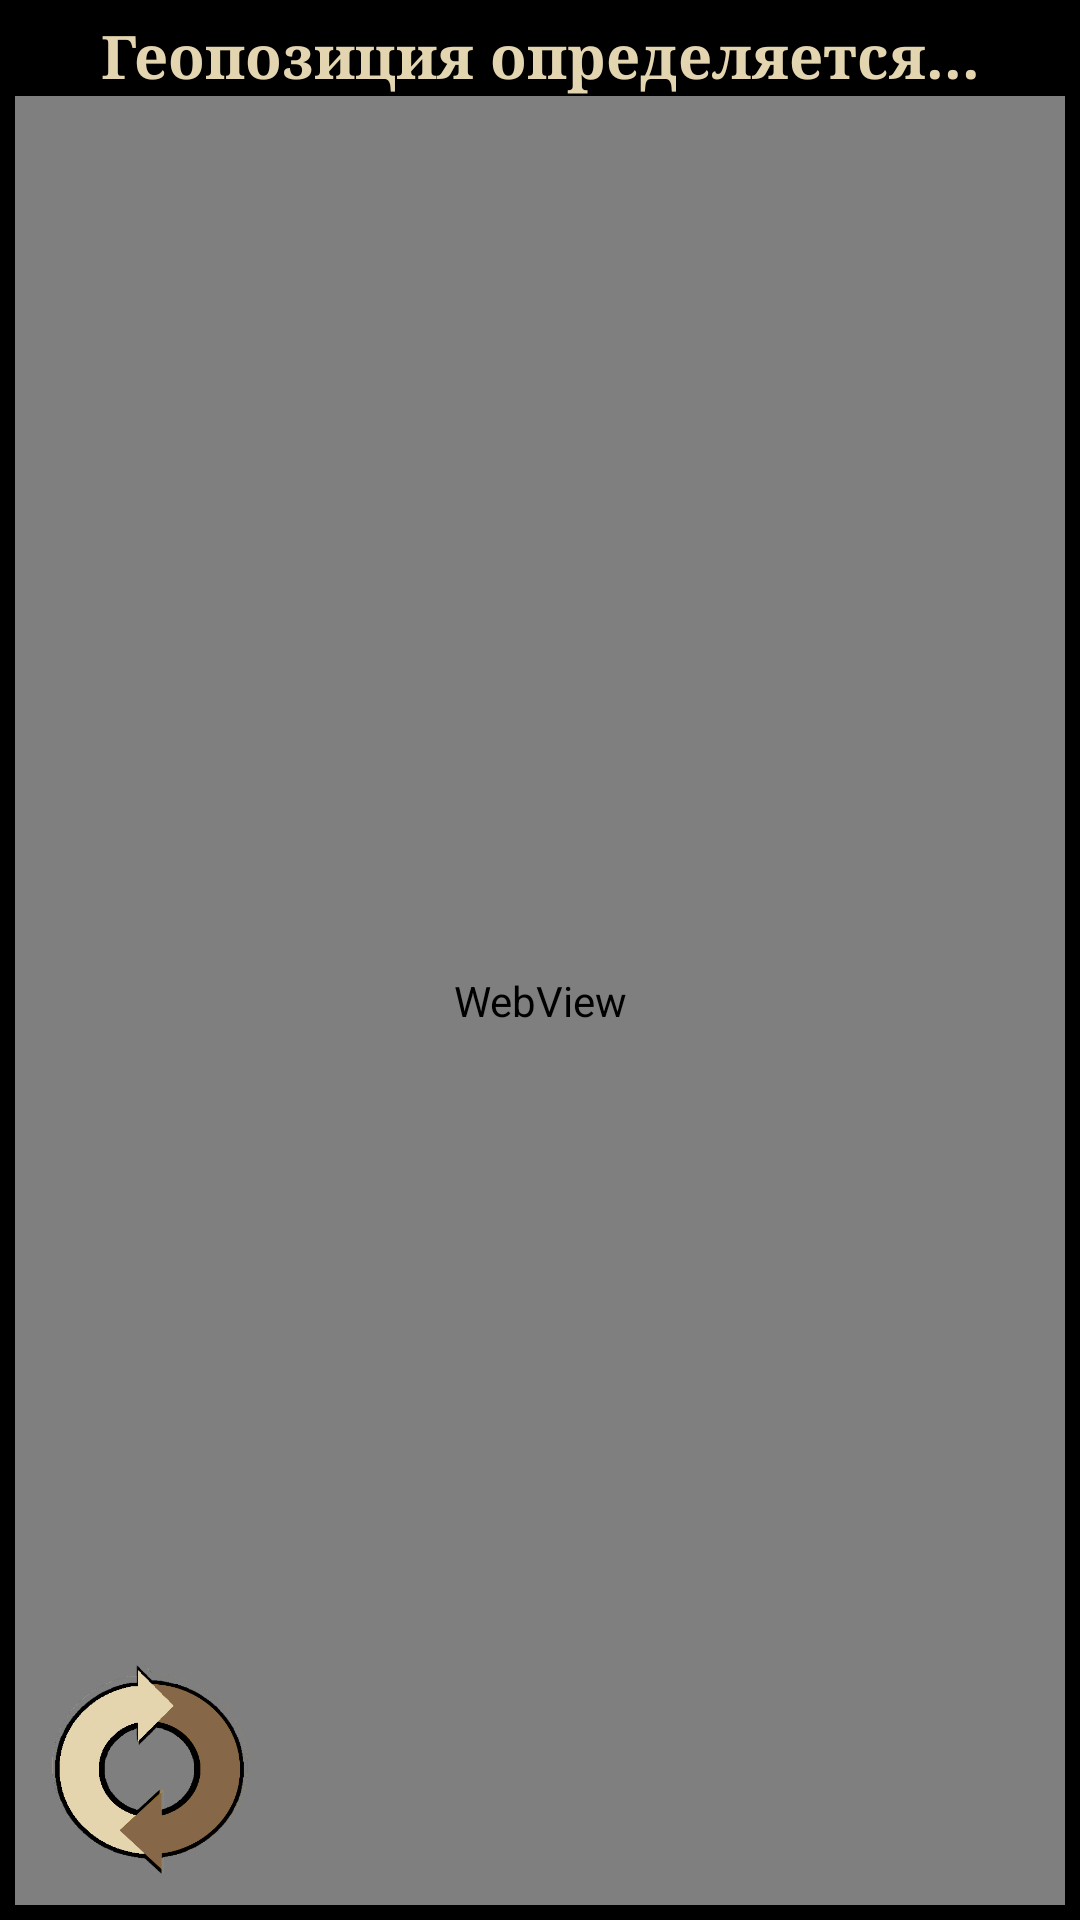

Where icons sit on this 1080px x 1920px app screen, as (x1, y1, x2, y2):
update: (52, 1666, 247, 1874)
